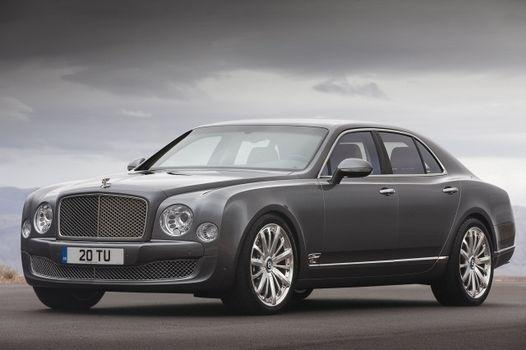Sedan: (19, 116, 516, 314)
